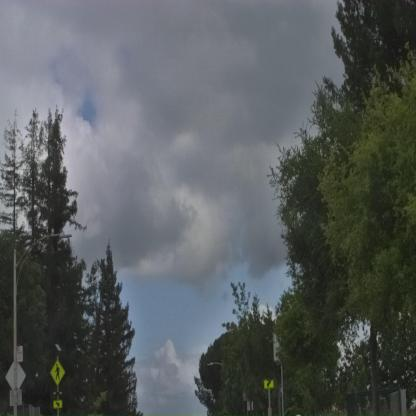sign: (49, 356, 66, 412), (262, 377, 276, 390)
